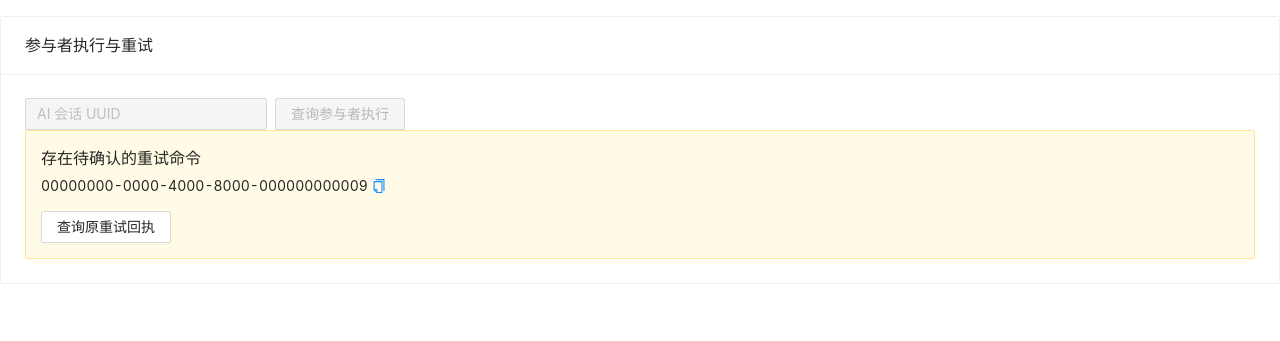
Test: keeps a technically held operation across refresh without another write
Check: the text "查询原重试回执" is shown, box top-left (57, 216), bottom-right (155, 238)
Step 1. Click the button "查询原重试回执" → (106, 227), box top-left (41, 211), bottom-right (171, 243)
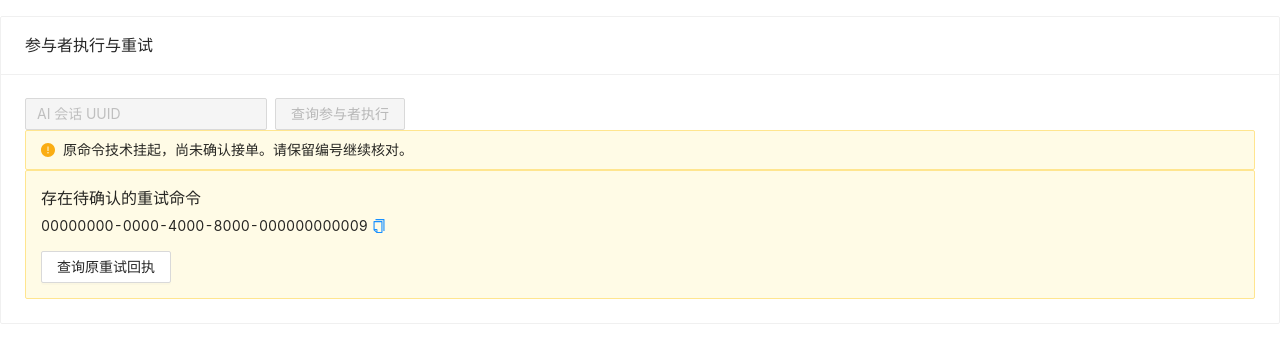
Check: the text "原命令技术挂起，尚未确认接单。请保留编号继续核对。" is shown, box top-left (63, 141), bottom-right (413, 158)
